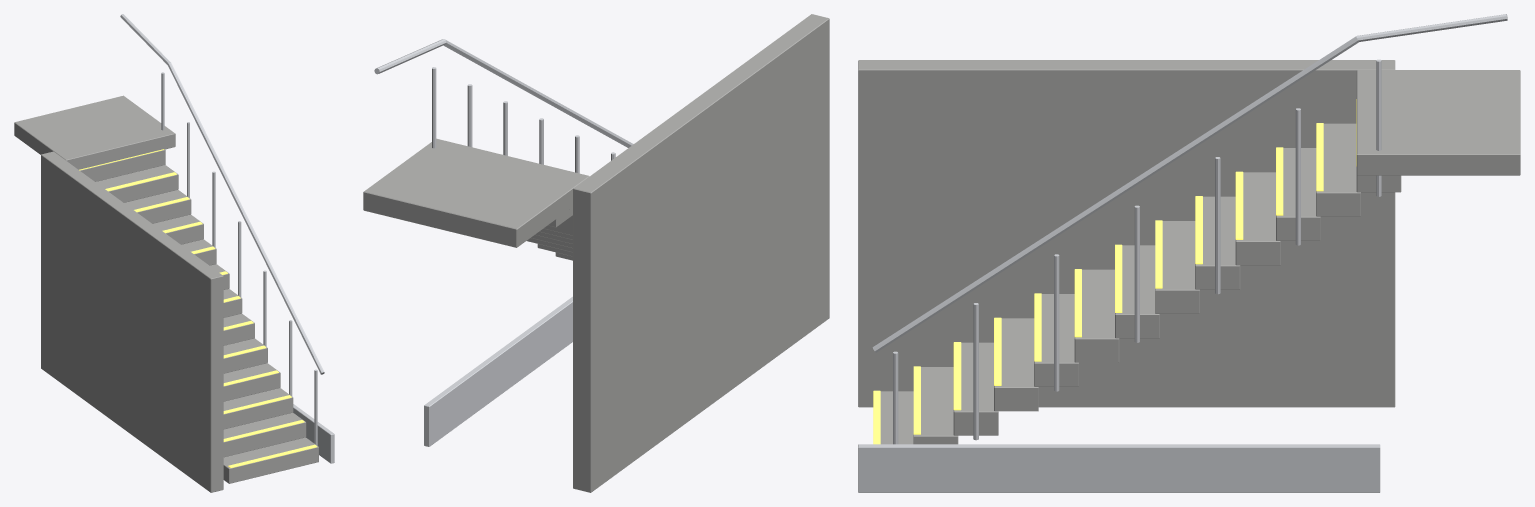
The model's file is cyberpunk-apartment-and-neon-block-stair-core-fb4dc0e3__37792.glb.
3 renders of one model, left to right at view 1: azimuth 30°, elevation 25°; view 2: azimuth 150°, elevation 25°; view 3: azimuth 270°, elevation 25°, orthographic. The views are drawn at different scales.
Visible parts, largest first — view 1: stair-core; view 2: stair-core; view 3: stair-core.
Boxes of the visible parts, box(x1,y1,x2,y2) form: stair-core: box(14, 14, 334, 492); stair-core: box(363, 14, 829, 492); stair-core: box(858, 14, 1520, 492).
Size of the model in its own units: 1.51 by 3.5 by 4.44.
